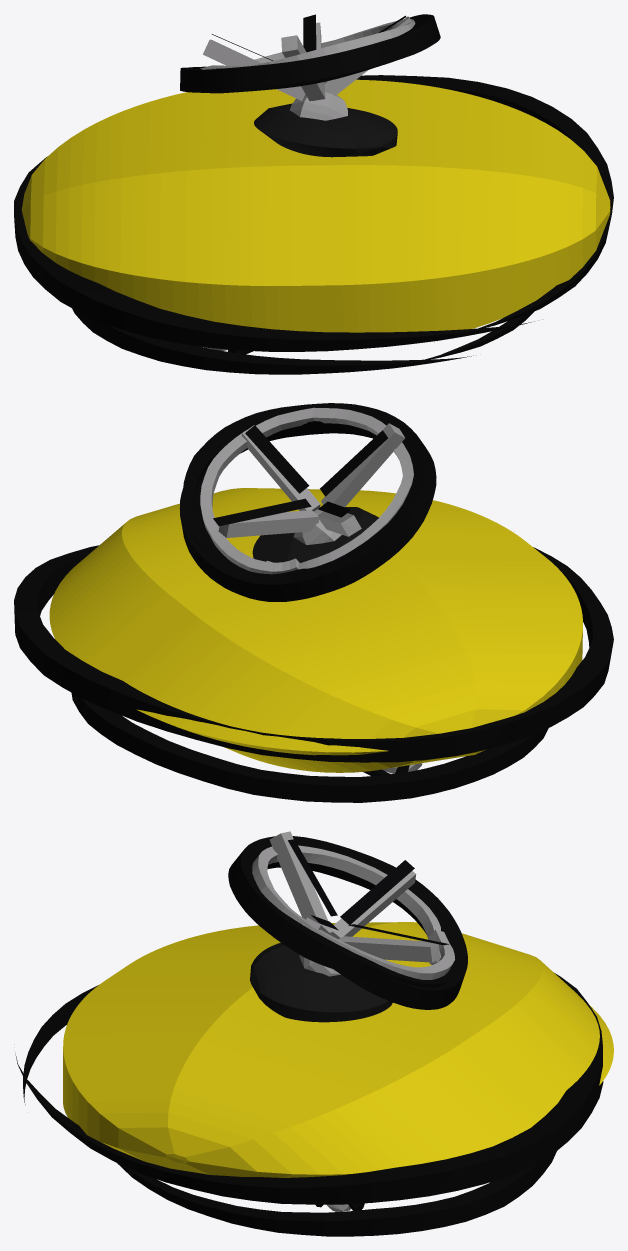
Rendered from Alsapao.fbx.
The picture shows the model from 3 angles, top to bottom: view 1: azimuth 30°, elevation 25°; view 2: azimuth 150°, elevation 25°; view 3: azimuth 270°, elevation 25°; orthographic projection. The views are drawn at different scales.
Visible parts, largest first — view 1: Alcapao; view 2: Alcapao; view 3: Alcapao.
Part boxes in pixels (<box>): Alcapao: <box>14,14,613,374</box>; Alcapao: <box>14,403,613,802</box>; Alcapao: <box>15,831,613,1236</box>.
Size of the model in its own units: 0.1793 by 0.105 by 0.1724.
